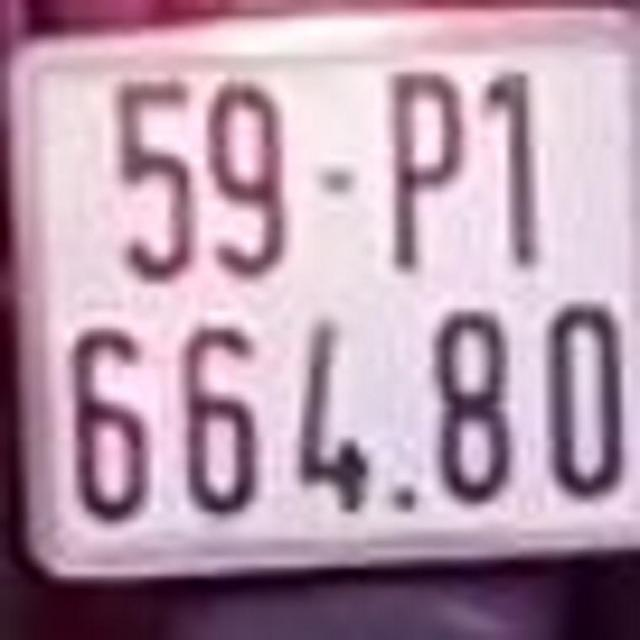0: (542, 294, 625, 502)
1: (478, 64, 542, 266)
4: (291, 314, 378, 511)
5: (110, 70, 199, 276)
6: (176, 318, 259, 518), (69, 322, 152, 517)
8: (420, 304, 520, 513)
9: (204, 70, 288, 282)
P: (382, 64, 468, 266)
